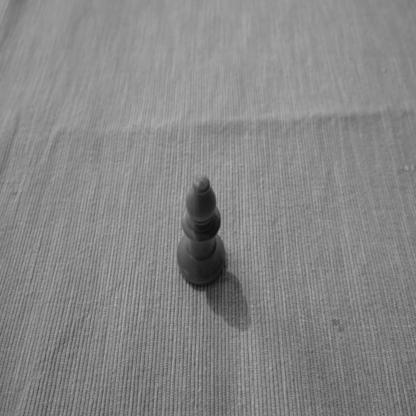white-bishop: (176, 174, 226, 291)
